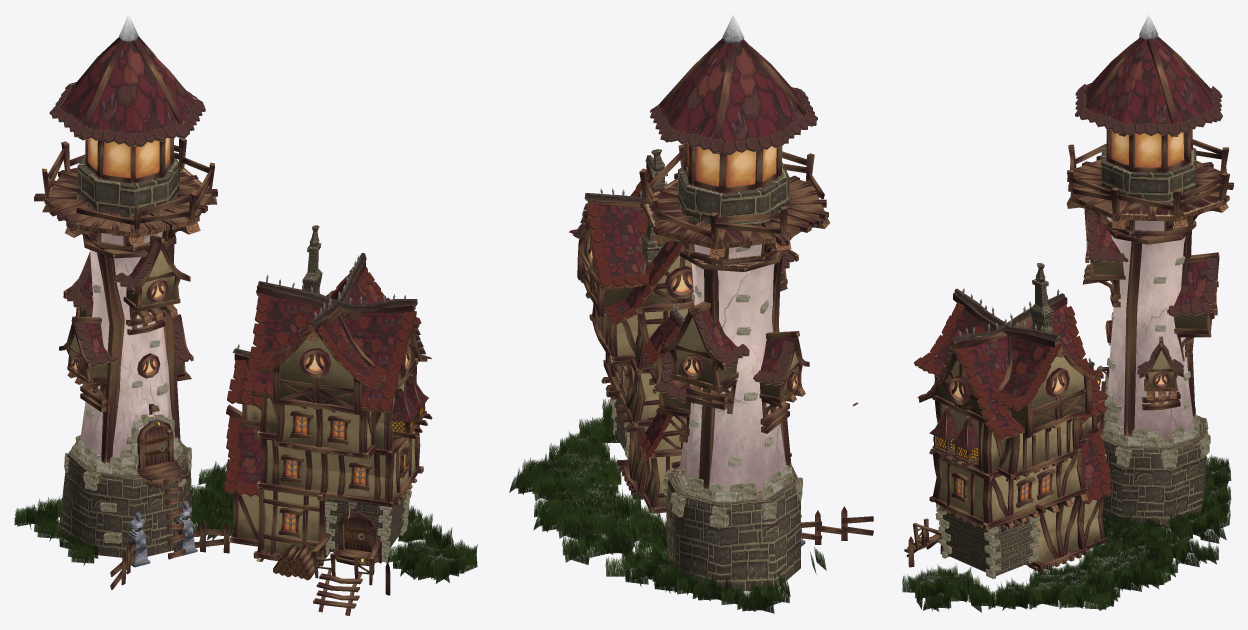
The model's file is v_tower_house.glb.
The picture shows the model from 3 angles, left to right: view 1: azimuth 30°, elevation 25°; view 2: azimuth 150°, elevation 25°; view 3: azimuth 270°, elevation 25°; orthographic projection. The views are drawn at different scales.
Visible parts, largest first — view 1: Object_36, Object_23, Object_33, Object_15, Object_35, Object_20, Object_19, Object_26, Object_16, Object_21, Object_32, Object_17 (+2 smaller); view 2: Object_33, Object_36, Object_26, Object_35, Object_16, Object_23, Object_15, Object_20, Object_19, Object_17, Object_21, Object_28; view 3: Object_33, Object_23, Object_36, Object_26, Object_15, Object_35, Object_20, Object_16, Object_19, Object_21, Object_17.
Part boxes in pixels (x1,y1,x2,y2): Object_36: (34, 36, 217, 488); Object_23: (226, 261, 432, 615); Object_33: (49, 14, 205, 543); Object_15: (223, 253, 431, 565); Object_35: (59, 155, 191, 557); Object_20: (237, 337, 415, 566); Object_19: (230, 273, 428, 491); Object_26: (14, 461, 477, 583); Object_16: (60, 41, 195, 360); Object_21: (302, 225, 405, 553); Object_32: (128, 501, 197, 567); Object_17: (70, 250, 182, 378); Object_33: (650, 14, 817, 526); Object_36: (639, 38, 829, 488); Object_26: (509, 398, 826, 613); Object_35: (666, 162, 800, 591); Object_16: (656, 42, 808, 389); Object_23: (573, 162, 694, 513); Object_15: (569, 155, 693, 467); Object_20: (583, 229, 691, 506); Object_19: (576, 178, 678, 453); Object_17: (662, 272, 798, 410); Object_21: (614, 149, 667, 451); Object_28: (801, 506, 873, 544); Object_33: (1075, 14, 1222, 468); Object_23: (904, 293, 1107, 572); Object_36: (1066, 36, 1233, 437); Object_26: (902, 454, 1231, 612); Object_15: (914, 288, 1111, 578); Object_35: (1099, 145, 1206, 527); Object_20: (935, 356, 1100, 565); Object_16: (1084, 38, 1216, 368); Object_19: (920, 302, 1104, 499); Object_21: (943, 263, 1053, 575); Object_17: (1092, 260, 1206, 387).
Size of the model in its own units: 1858 by 2993 by 1798.
13 materials, 11 textured.
